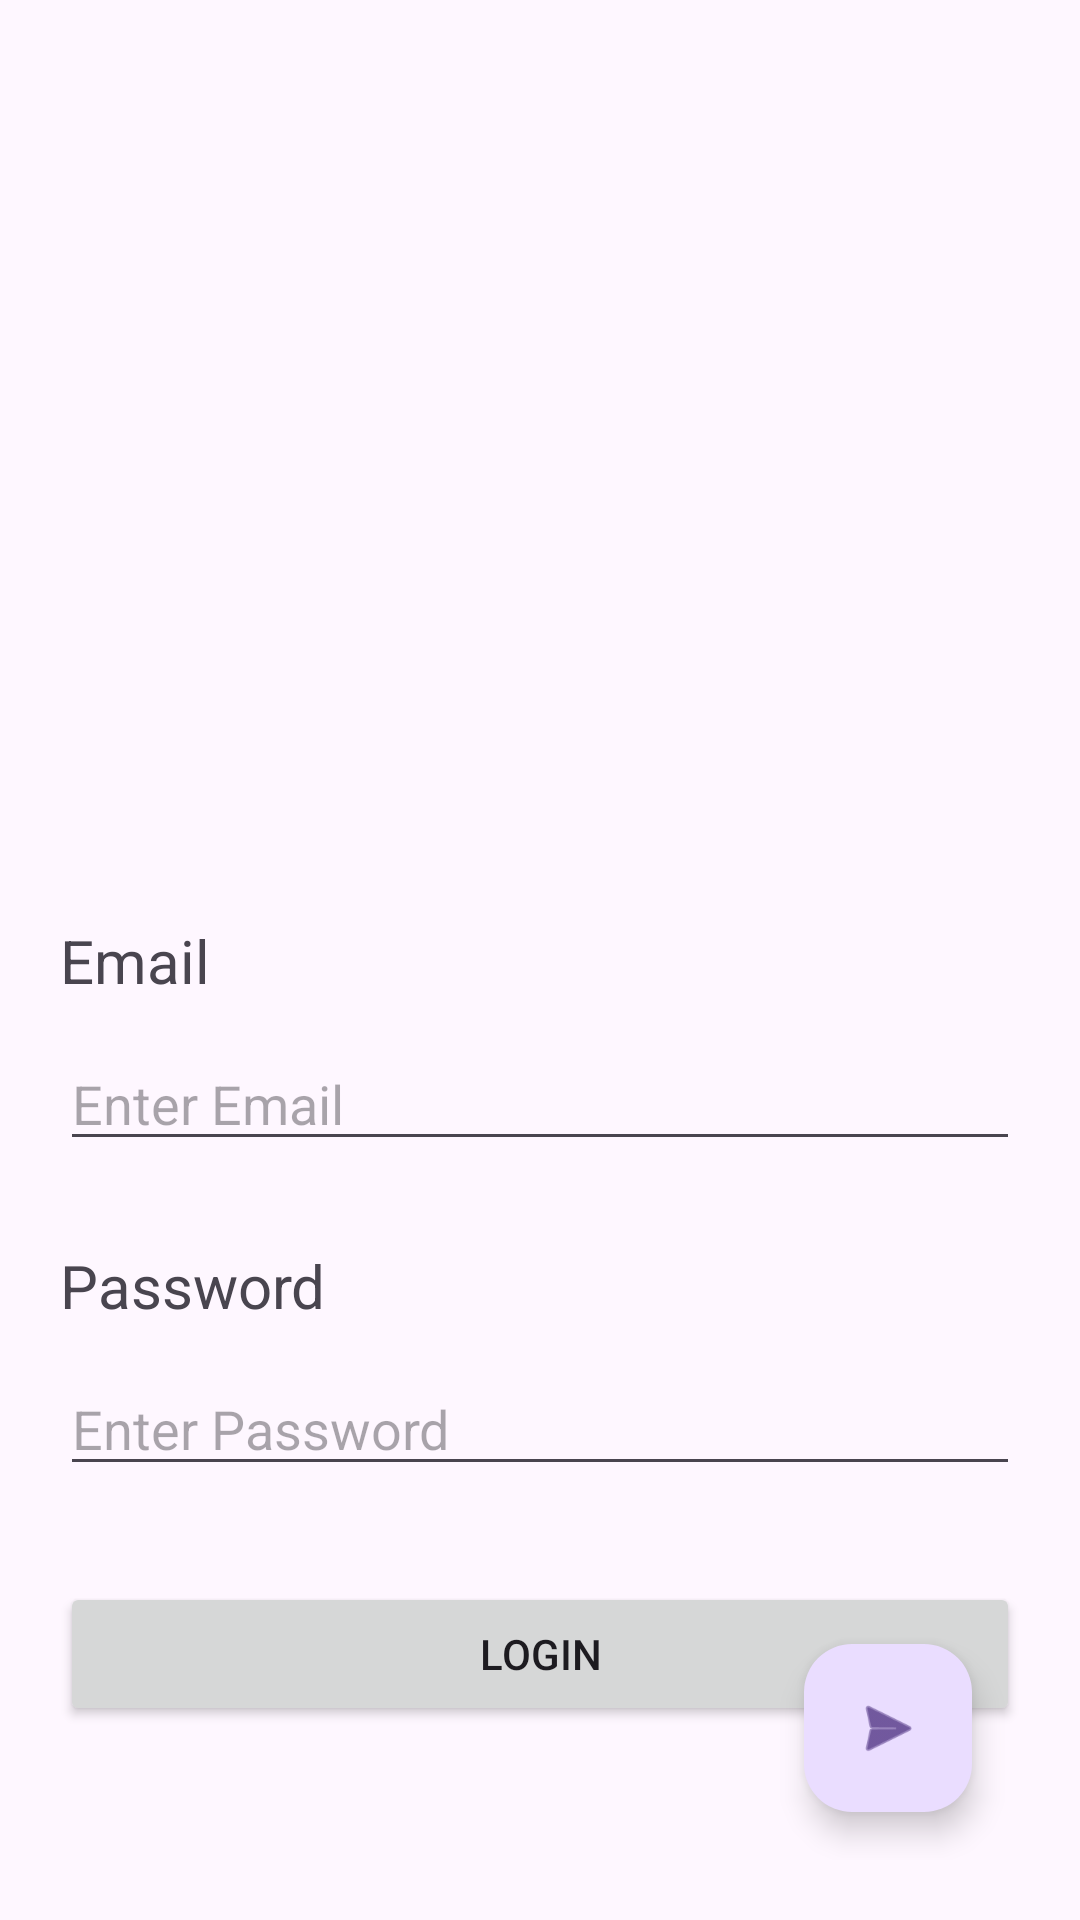

Icon click points for this 1080*1920 phone screenshot, format (x=x, y=y):
send: (x=888, y=1728)
